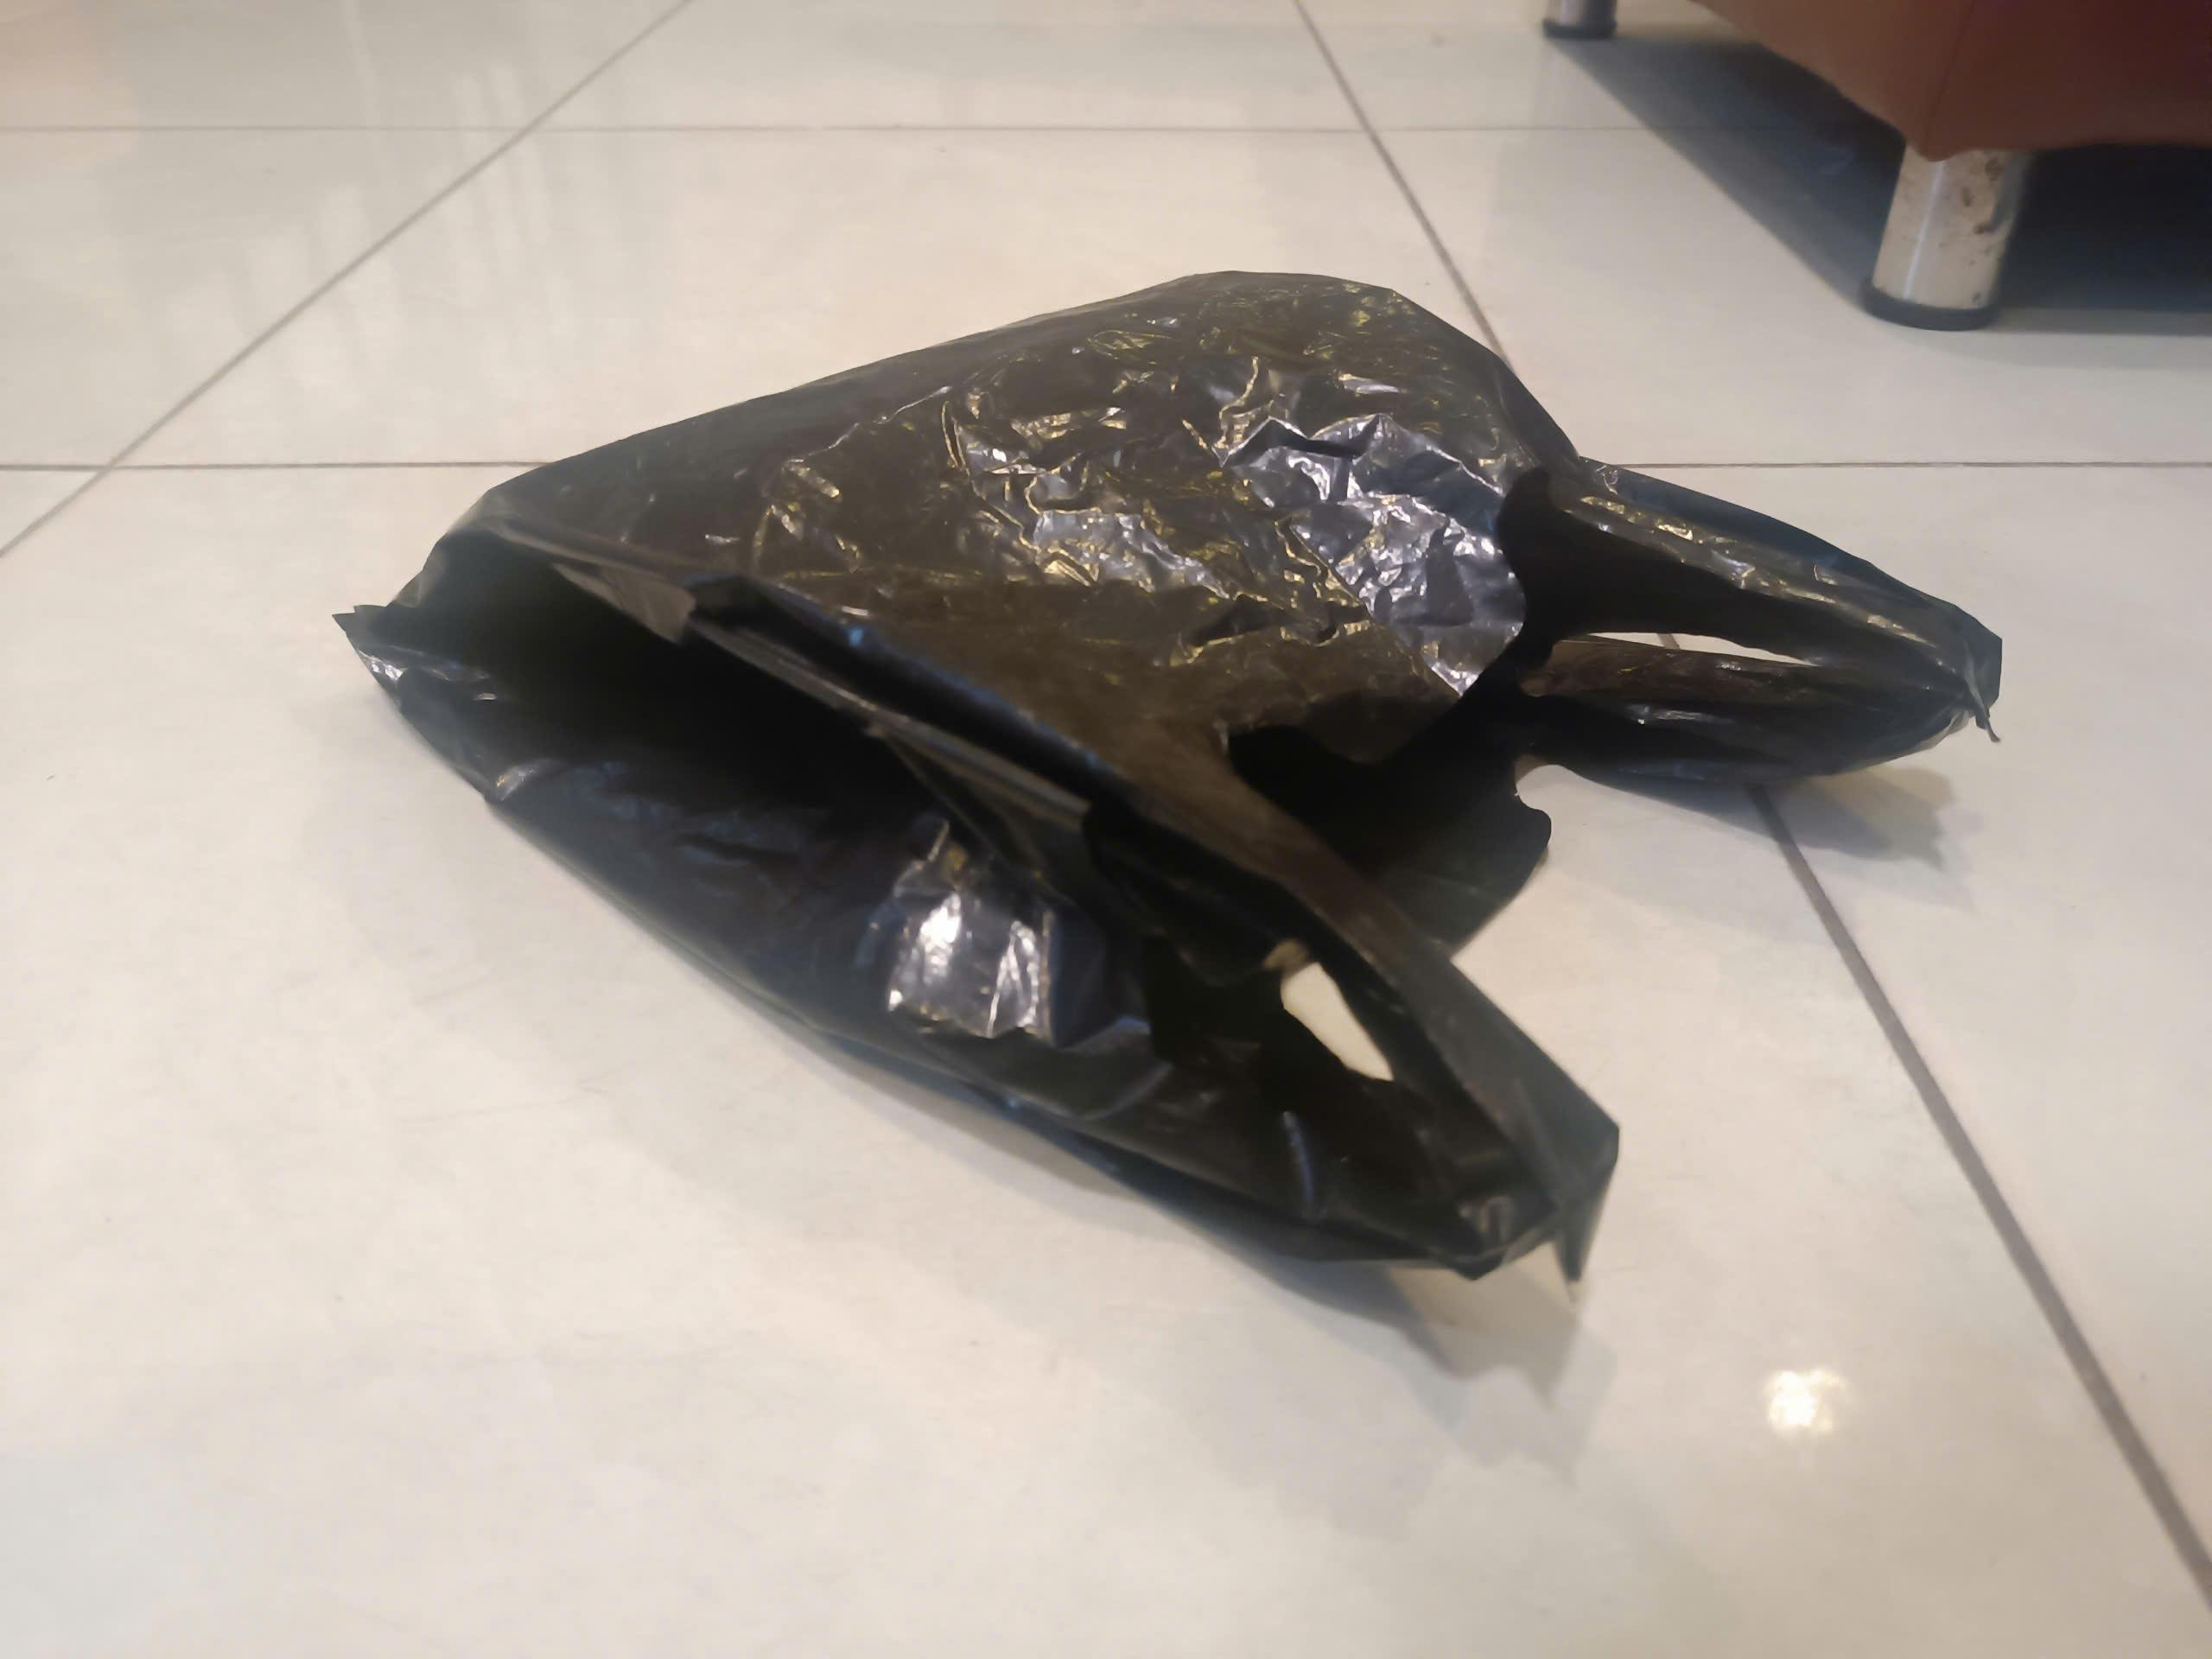Vo co: (331, 265, 1998, 1293)
